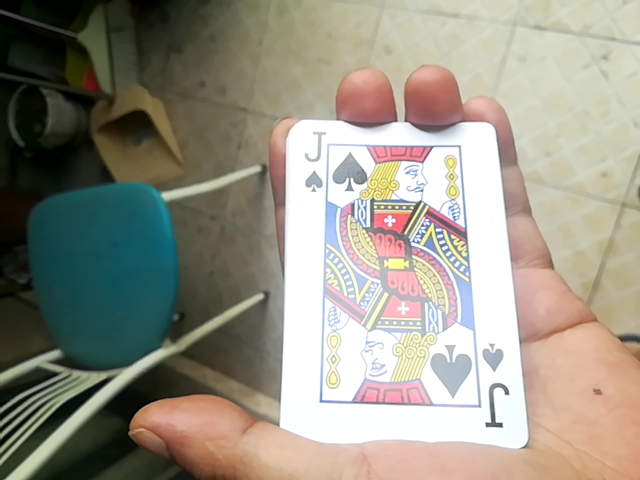ht j: (274, 119, 526, 449)
